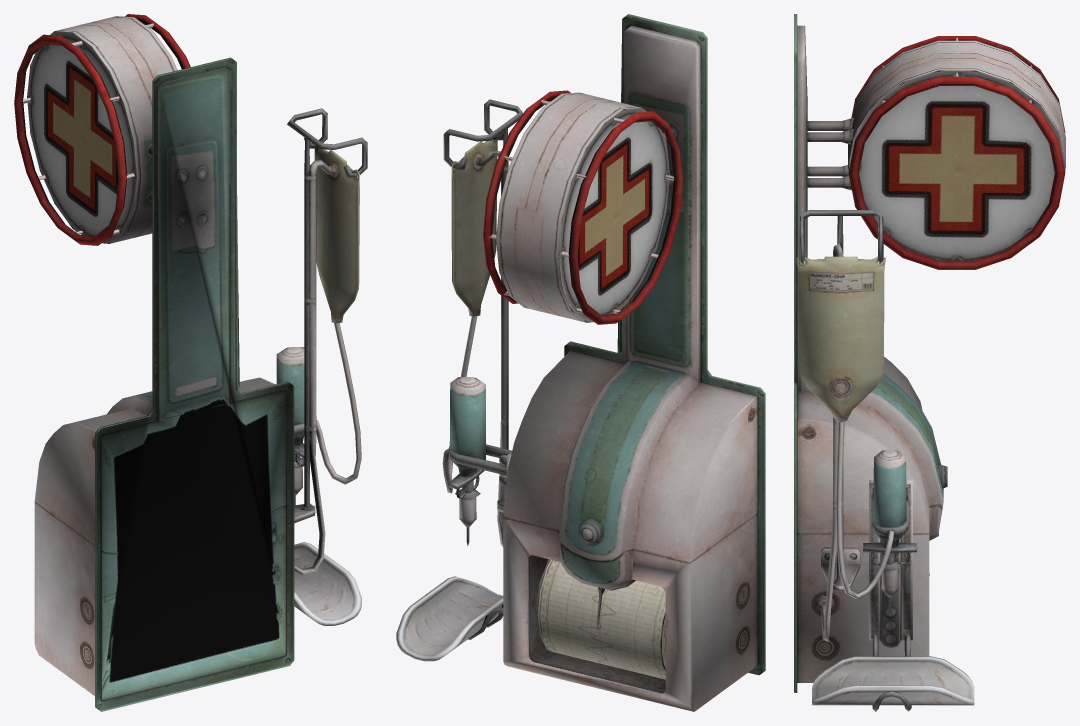
The model's file is Health Station.obj.
3 views of the same model, side by side, from view 1: azimuth 30°, elevation 25°; view 2: azimuth 150°, elevation 25°; view 3: azimuth 270°, elevation 25° (orthographic). The views are drawn at different scales.
Visible parts, largest first — view 1: Health_Station; view 2: Health_Station; view 3: Health_Station.
Boxes of the visible parts, x1,y1,x2,y2 form: Health_Station: (14, 14, 367, 711); Health_Station: (396, 14, 765, 711); Health_Station: (794, 14, 1065, 711).
Size of the model in its own units: 57.72 by 118 by 47.39.
1 material, 1 textured.
